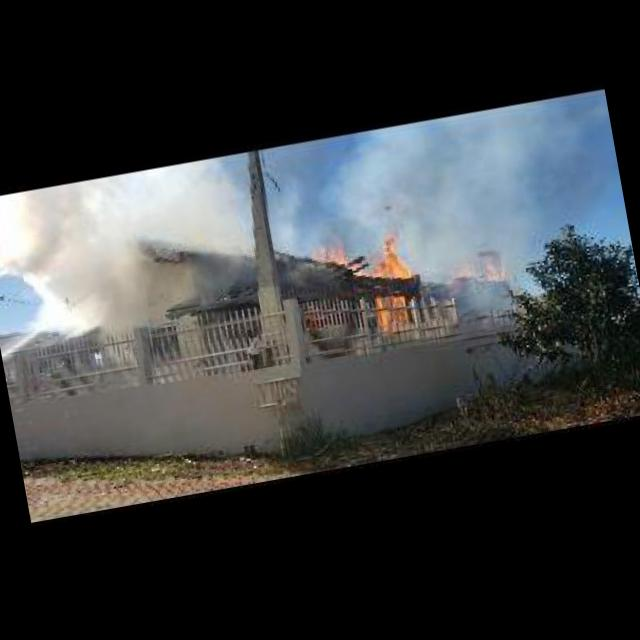fire: (309, 230, 418, 334), (449, 242, 508, 288)
smoke: (39, 219, 239, 355)
